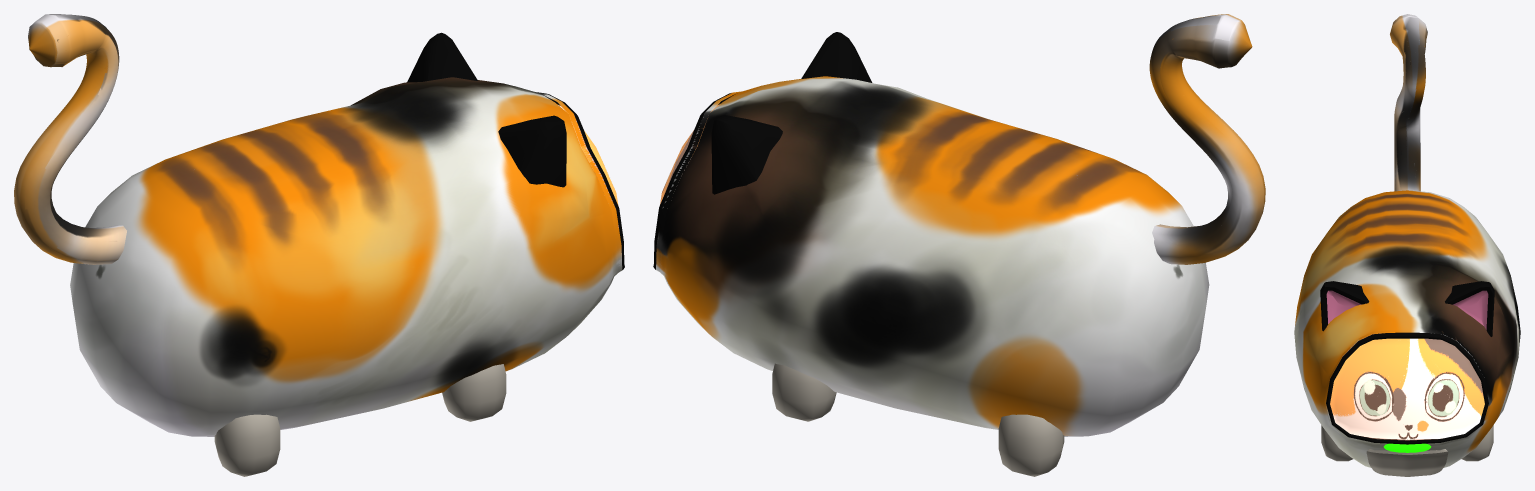
File: cali.glb
3 views of the same model, side by side, from view 1: azimuth 30°, elevation 25°; view 2: azimuth 150°, elevation 25°; view 3: azimuth 270°, elevation 25° (orthographic). The views are drawn at different scales.
Visible parts, largest first — view 1: Corps, BézierCurve, Cube.005, Cube.002, Cube.001, Visage; view 2: Corps, BézierCurve, Cube.005, Cube.002, Cube.001, Visage; view 3: Corps, Visage, BézierCurve, Cube.005, Cube, Cube.001, Cube.006.
Boxes of the visible parts, x1,y1,x2,y2 form: Corps: [70, 77, 618, 436]; BézierCurve: [14, 14, 126, 264]; Cube.005: [407, 32, 566, 187]; Cube.002: [214, 414, 280, 476]; Cube.001: [442, 364, 506, 421]; Visage: [537, 92, 624, 272]; Corps: [660, 76, 1209, 436]; BézierCurve: [1149, 14, 1265, 264]; Cube.005: [711, 32, 872, 194]; Cube.002: [998, 414, 1064, 476]; Cube.001: [772, 363, 836, 421]; Visage: [653, 91, 741, 271]; Corps: [1294, 190, 1520, 467]; Visage: [1325, 330, 1489, 444]; BézierCurve: [1390, 14, 1427, 191]; Cube.005: [1320, 281, 1494, 336]; Cube: [1366, 449, 1448, 476]; Cube.001: [1321, 425, 1493, 461]; Cube.006: [1383, 443, 1431, 452].
Size of the model in its own units: 4.02 by 3.01 by 1.94.
Materials: 8 (3 with a texture image).
